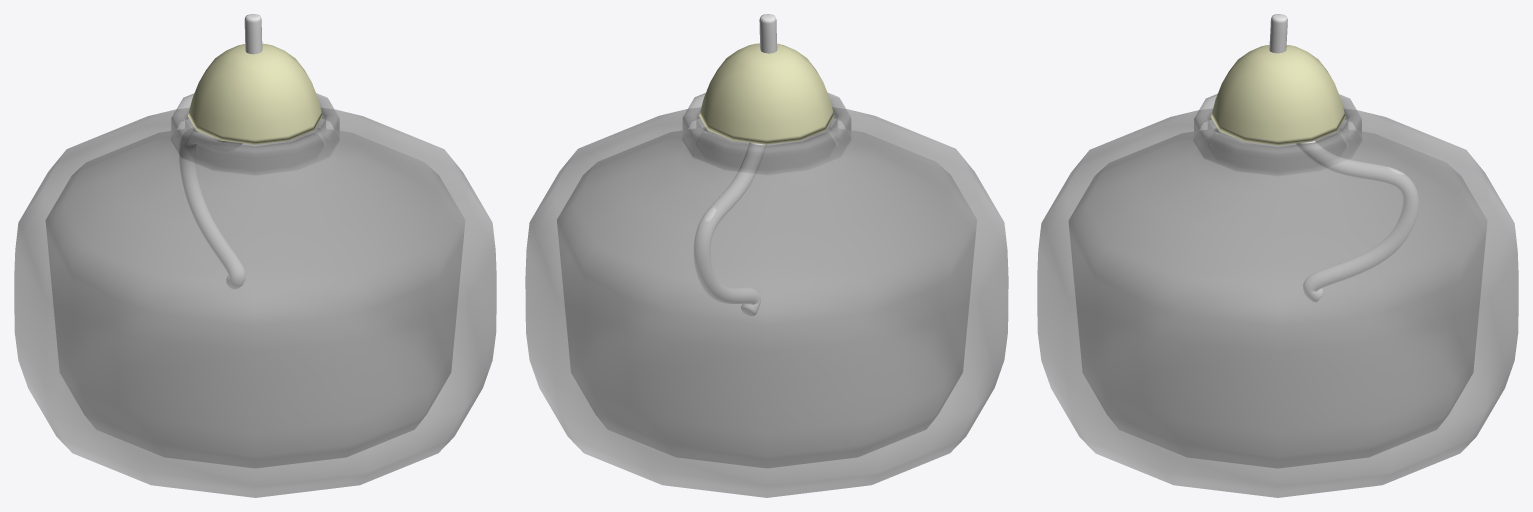
3 renders of one model, left to right at view 1: azimuth 30°, elevation 25°; view 2: azimuth 150°, elevation 25°; view 3: azimuth 270°, elevation 25°, orthographic.
Visible parts, largest first — view 1: polySurface6, polySurface4, polySurface5; view 2: polySurface6, polySurface4, polySurface5; view 3: polySurface6, polySurface4, polySurface5.
Boxes of the visible parts, x1,y1,x2,y2 form: polySurface6: (14,93,496,497); polySurface4: (188,43,322,144); polySurface5: (179,14,262,288); polySurface6: (525,93,1008,497); polySurface4: (699,43,834,144); polySurface5: (694,14,777,315); polySurface6: (1037,94,1518,497); polySurface4: (1211,45,1345,145); polySurface5: (1269,14,1418,302).
Size of the model in its own units: 22.98 by 20.78 by 22.74.
